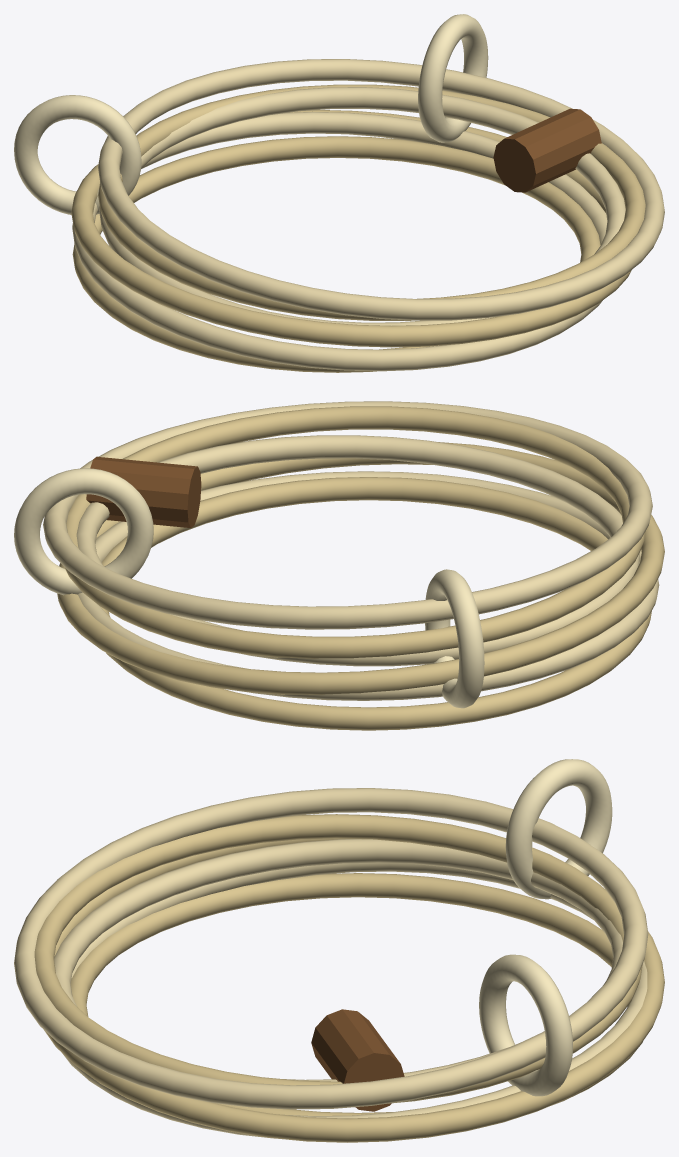
File: bogensehne.glb
The picture shows the model from 3 angles, top to bottom: view 1: azimuth 30°, elevation 25°; view 2: azimuth 150°, elevation 25°; view 3: azimuth 270°, elevation 25°; orthographic projection. The views are drawn at different scales.
Parts seen in each view (by area): view 1: Torus.005, Torus.001, Torus.002, Torus, Torus.003, Torus.004, Torus.007, Cylinder, Torus.006; view 2: Torus.004, Torus, Torus.005, Torus.002, Torus.003, Torus.001, Torus.006, Cylinder, Torus.007; view 3: Torus.005, Torus.004, Torus.002, Torus, Torus.003, Torus.001, Torus.006, Torus.007, Cylinder.
Part boxes in pixels (x1=…): Torus.005: x1=98, y1=59, x2=664, y2=320; Torus.001: x1=72, y1=111, x2=607, y2=371; Torus.002: x1=71, y1=110, x2=631, y2=347; Torus: x1=72, y1=136, x2=600, y2=372; Torus.003: x1=99, y1=87, x2=625, y2=325; Torus.004: x1=98, y1=84, x2=645, y2=320; Torus.007: x1=14, y1=95, x2=141, y2=214; Cylinder: x1=493, y1=108, x2=601, y2=192; Torus.006: x1=418, y1=14, x2=488, y2=142; Torus.004: x1=64, y1=406, x2=645, y2=658; Torus: x1=101, y1=477, x2=651, y2=730; Torus.005: x1=43, y1=401, x2=652, y2=629; Torus.002: x1=57, y1=442, x2=664, y2=694; Torus.003: x1=76, y1=435, x2=640, y2=666; Torus.001: x1=78, y1=471, x2=659, y2=700; Torus.006: x1=14, y1=468, x2=153, y2=595; Cylinder: x1=86, y1=456, x2=201, y2=527; Torus.007: x1=425, y1=569, x2=484, y2=708; Torus.005: x1=14, y1=788, x2=648, y2=1109; Torus.004: x1=34, y1=814, x2=642, y2=1103; Torus.002: x1=44, y1=838, x2=664, y2=1142; Torus: x1=70, y1=873, x2=642, y2=1115; Torus.003: x1=54, y1=839, x2=622, y2=1081; Torus.001: x1=62, y1=862, x2=647, y2=1138; Torus.006: x1=479, y1=954, x2=572, y2=1096; Torus.007: x1=505, y1=759, x2=612, y2=899; Cylinder: x1=311, y1=1009, x2=404, y2=1111.
Bounding box in the file's own units: 0.2434 × 0.0663 × 0.2408.
